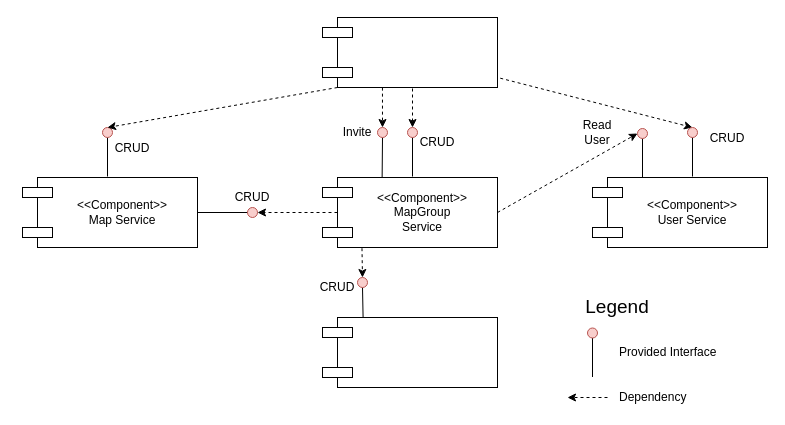
This 785x425 diagram has some shape labels left out. Here are the shapes that lost their labels. From the top down, the centre of each, then its label:
At point 417,52: "<<Component>> Load Balancer / Target Group".
At point 417,352: "<<Component>> Messaging Service".
